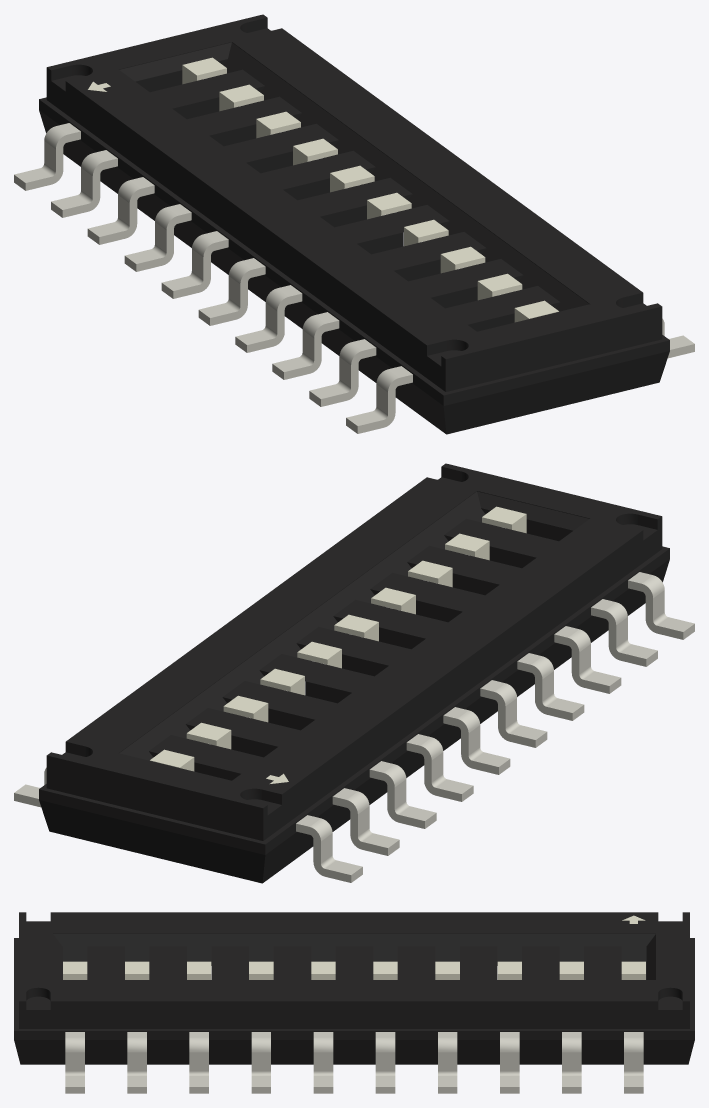
File: kc-sw_dip_spstx10_slide_omron_a6h-10101_w6.15mm_p1.27mm.glb
The picture shows the model from 3 angles, top to bottom: view 1: azimuth 30°, elevation 25°; view 2: azimuth 150°, elevation 25°; view 3: azimuth 270°, elevation 25°; orthographic projection. The views are drawn at different scales.
Visible parts, largest first — view 1: 0_0_0_0, 0.6666666666666666_0.6666666666666666_0.5833333333333334_0.8, 0.75_0.75_0.6666666666666666_0; view 2: 0_0_0_0, 0.6666666666666666_0.6666666666666666_0.5833333333333334_0.8, 0.75_0.75_0.6666666666666666_0; view 3: 0_0_0_0, 0.6666666666666666_0.6666666666666666_0.5833333333333334_0.8, 0.75_0.75_0.6666666666666666_0.
Part boxes in pixels (<box>): 0_0_0_0: <box>39,14,669,434</box>; 0.6666666666666666_0.6666666666666666_0.5833333333333334_0.8: <box>14,123,694,433</box>; 0.75_0.75_0.6666666666666666_0: <box>88,57,558,322</box>; 0_0_0_0: <box>39,463,669,883</box>; 0.6666666666666666_0.6666666666666666_0.5833333333333334_0.8: <box>14,572,694,882</box>; 0.75_0.75_0.6666666666666666_0: <box>150,506,526,783</box>; 0_0_0_0: <box>14,912,694,1064</box>; 0.6666666666666666_0.6666666666666666_0.5833333333333334_0.8: <box>65,1032,643,1093</box>; 0.75_0.75_0.6666666666666666_0: <box>63,915,645,979</box>.
Size of the model in its own units: 0.67 by 0.1525 by 1.39.
